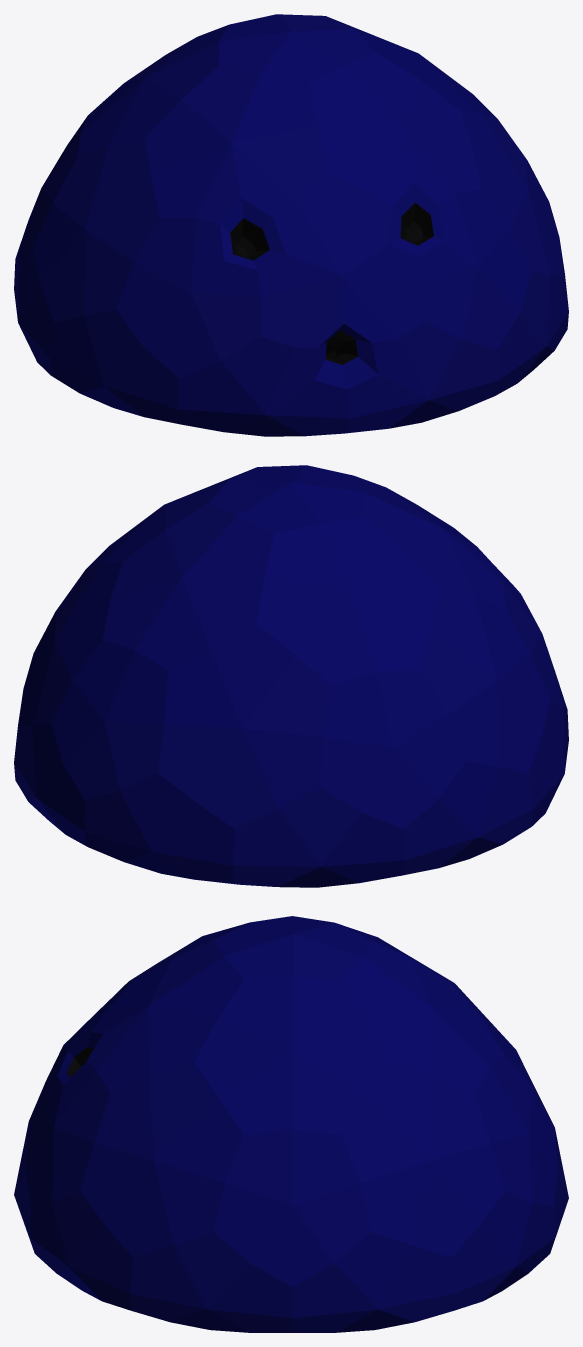
Rendered from slime.fbx.
The picture shows the model from 3 angles, top to bottom: view 1: azimuth 30°, elevation 25°; view 2: azimuth 150°, elevation 25°; view 3: azimuth 270°, elevation 25°; orthographic projection.
Parts seen in each view (by area): view 1: Icosphere; view 2: Icosphere; view 3: Icosphere.
Boxes of the visible parts, <box> form: Icosphere: <box>14,14,568,436</box>; Icosphere: <box>14,465,568,887</box>; Icosphere: <box>14,916,568,1332</box>.
Bounding box in the file's own units: 72.69 × 46.76 × 73.1.
